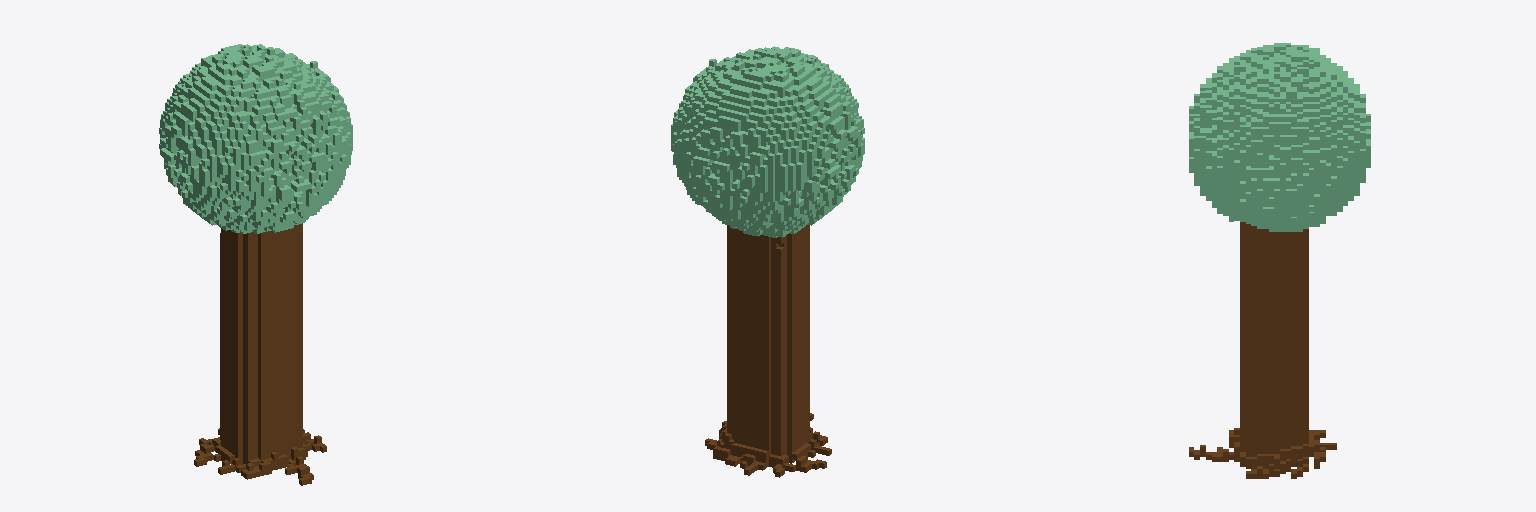
3 renders of one model, left to right at view 1: azimuth 30°, elevation 25°; view 2: azimuth 150°, elevation 25°; view 3: azimuth 270°, elevation 25°, orthographic.
Visible parts, largest first — view 1: Model; view 2: Model; view 3: Model.
Boxes of the visible parts, box(x1,y1,x2,y2) form: Model: box(159, 44, 352, 485); Model: box(671, 46, 864, 477); Model: box(1189, 43, 1370, 478).
Size of the model in its own units: 10.24 by 24.32 by 10.24.
1 materials, 1 textured.